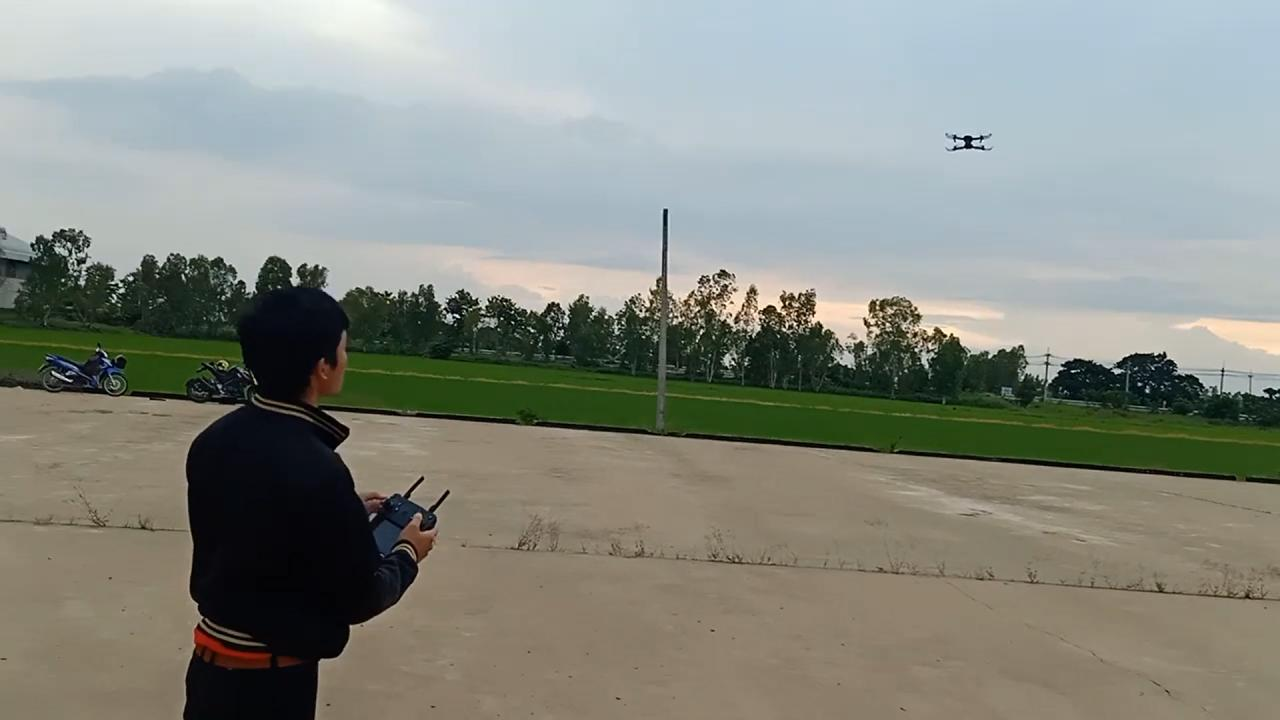Drone: (934, 120, 1002, 166)
